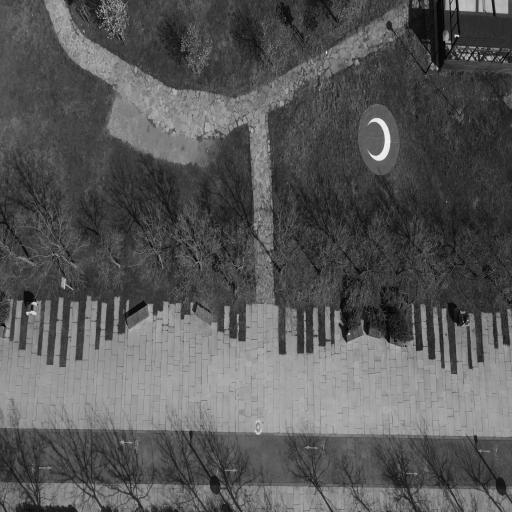UAP: (358, 104, 399, 175)
